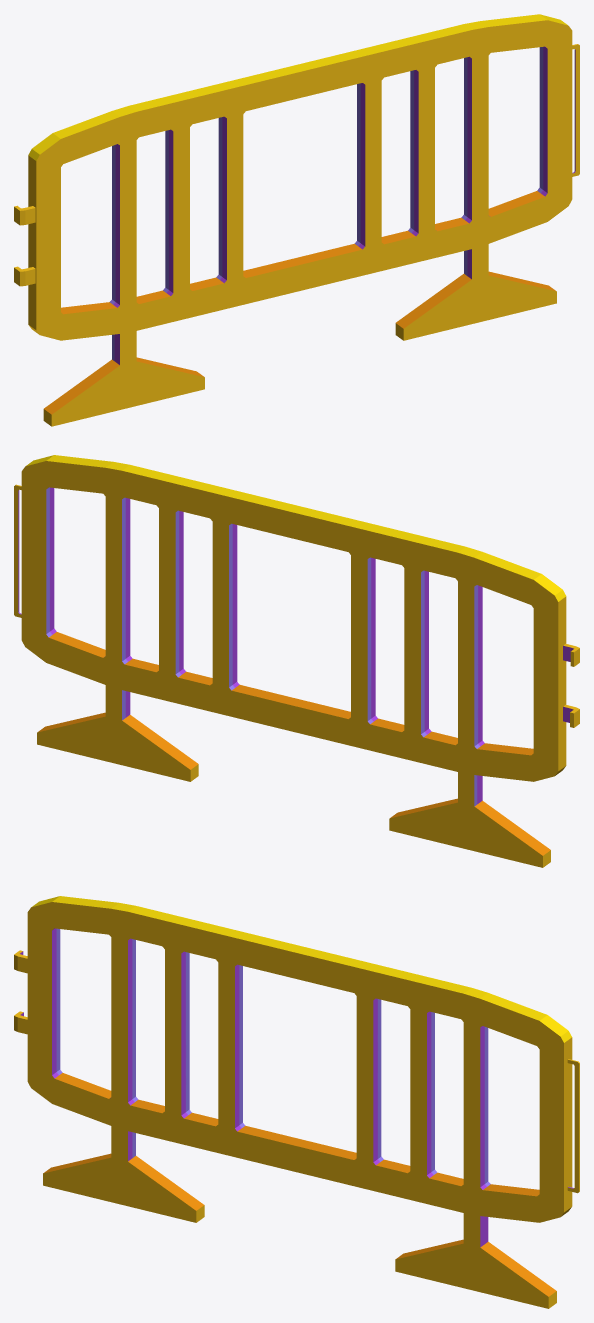
File: 3D_fence.fbx
3 renders of one model, top to bottom at view 1: azimuth 30°, elevation 25°; view 2: azimuth 150°, elevation 25°; view 3: azimuth 330°, elevation 25°, orthographic.
Visible parts, largest first — view 1: GEO_Fence; view 2: GEO_Fence; view 3: GEO_Fence.
Boxes of the visible parts, x1=… form: GEO_Fence: x1=14, y1=14, x2=579, y2=426; GEO_Fence: x1=14, y1=455, x2=579, y2=867; GEO_Fence: x1=14, y1=896, x2=579, y2=1308.
Bounding box in the file's own units: 2 × 0.05 × 1.
